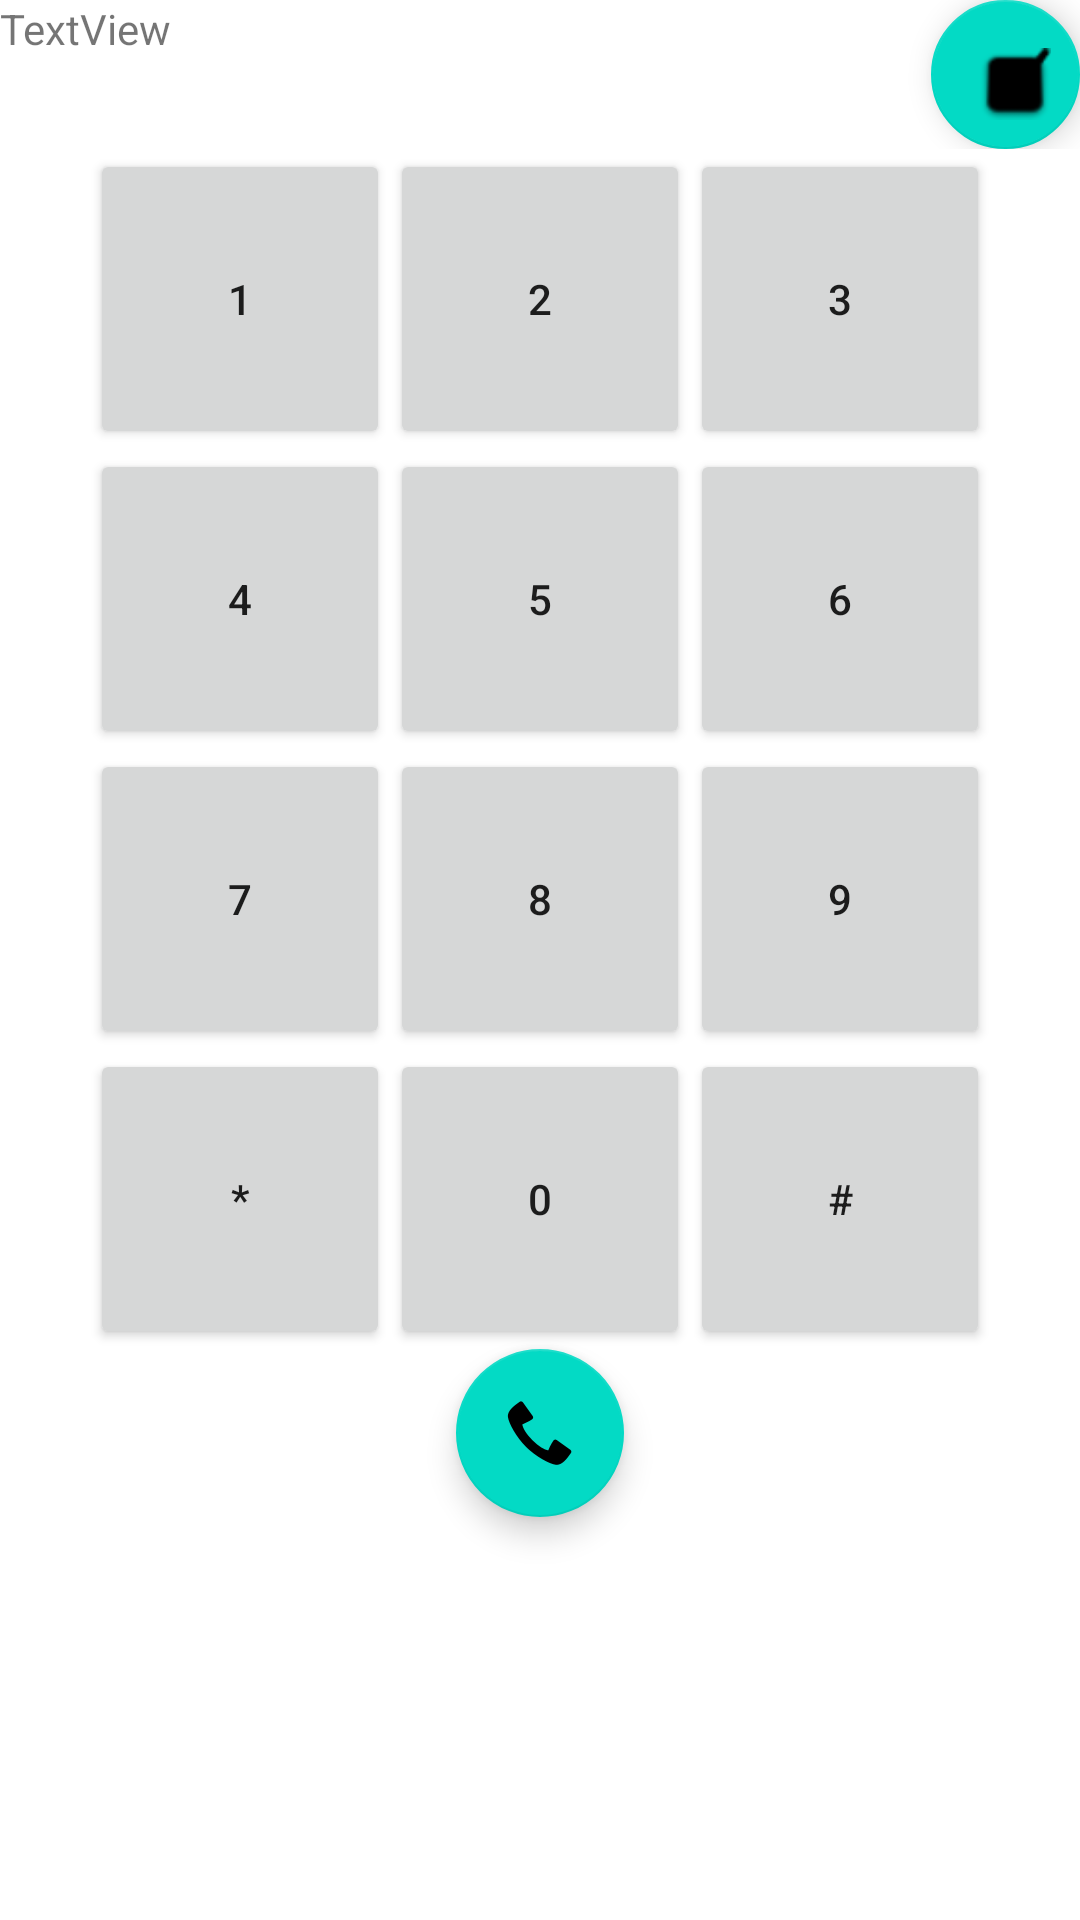

Named icons in this screenshot (1080w x 1920h) and their centers, (x=x, y=y):
phone call: (x=540, y=1433)
